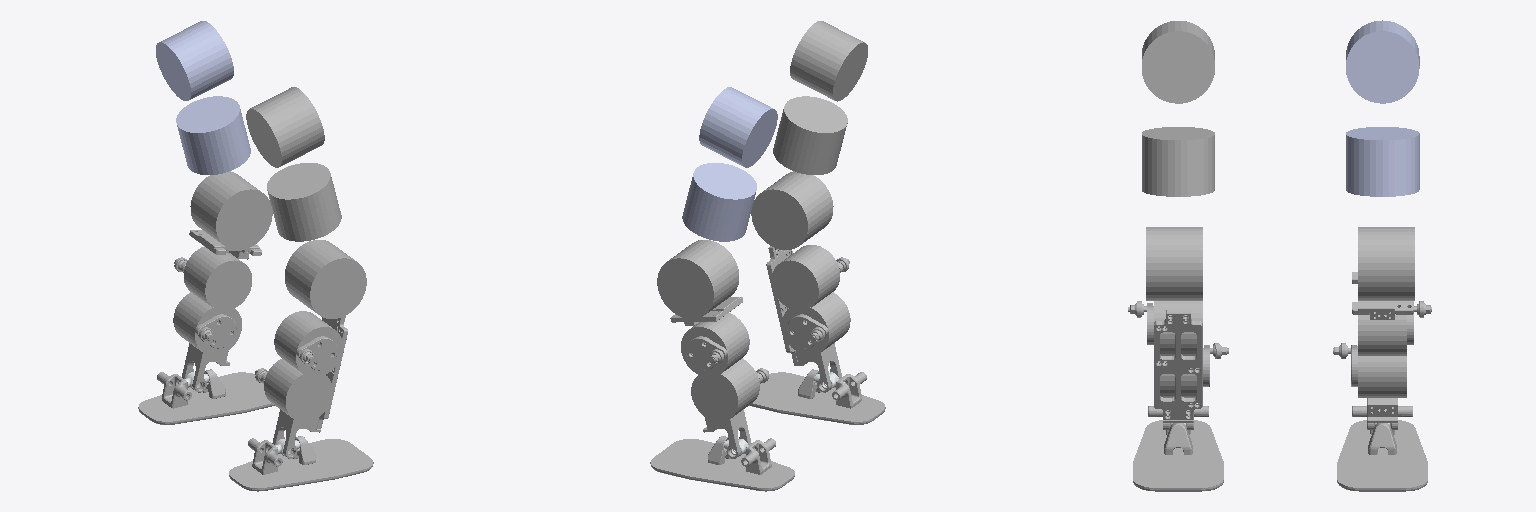
URDF robot description (hi_12dof_250108_4):
<?xml version="1.0" encoding="utf-8"?>
<!-- This URDF was automatically created by SolidWorks to URDF Exporter! Originally created by [author] ([email redacted]) 
     Commit Version: 1.6.0-4-g7f85cfe  Build Version: 1.6.7995.38578
     For more information, please see http://wiki.ros.org/sw_urdf_exporter -->
<robot name="hi_12dof_250108_4">
  <mujoco>
		<compiler meshdir="../meshes/" balanceinertia="true" discardvisual="false" />
	</mujoco>
  <link name="base_link">
    <inertial>
      <origin xyz="-0.00019303 0.00036959 0.01534814" rpy="0 0 0" />
      <mass value="6.73314994" />
      <inertia ixx="0.16409143" ixy="2.467E-05" ixz="0.00018798" iyy="0.08503186" iyz="4.154E-05" izz="0.08435556" />
    </inertial>
    <visual>
      <origin xyz="0 0 0" rpy="0 0 0" />
      <geometry>
        <mesh filename="../meshes/base_link.STL" />
      </geometry>
      <material name="">
        <color rgba="0.792156862745098 0.819607843137255 0.933333333333333 1" />
      </material>
    </visual>
    <collision>
      <origin xyz="0 0 0" rpy="0 0 0" />
      <geometry>
        <mesh filename="../meshes/base_link.STL" />
      </geometry>
    </collision>
  </link>
<!-- right leg -->  
  <link name="r_hip_pitch_link">
    <inertial>
      <origin xyz="-0.00065082 -0.04000352 0" rpy="0 0 0" />
      <mass value="0.68046017" />
      <inertia ixx="0.00047559" ixy="-7.1E-07" ixz="0" iyy="0.00045295" iyz="0" izz="0.00048659" />
    </inertial>
    <visual>
      <origin xyz="0 0 0" rpy="0 0 0" />
      <geometry>
        <mesh filename="../meshes/r_hip_pitch_link.STL" />
      </geometry>
      <material name="">
        <color rgba="0.752941176470588 0.752941176470588 0.752941176470588 1" />
      </material>
    </visual>
    <collision>
      <origin xyz="0 0 0" rpy="0 0 0" />
      <geometry>
        <box size="0.0001 0.0001 0.0001" />
        <!-- <mesh filename="../meshes/r_hip_pitch_link.STL" /> -->
      </geometry>
    </collision>
  </link>
  <joint name="r_hip_pitch_joint" type="revolute">
    <origin xyz="0 -0.0575 -0.141" rpy="0 -0.25 0" />
    <parent link="base_link" />
    <child link="r_hip_pitch_link" />
    <axis xyz="0 1 0" />
    <limit lower="-1.0" upper="1.8" effort="25" velocity="11" />
  </joint>
  <link name="r_hip_roll_link">
    <inertial>
      <origin xyz="-0.02820649 -3.55E-06 -0.07839226" rpy="0 0 0" />
      <mass value="0.80172262" />
      <inertia ixx="0.00145361" ixy="-2E-08" ixz="-3.101E-05" iyy="0.00168848" iyz="-3E-08" izz="0.00071355" />
    </inertial>
    <visual>
      <origin xyz="0 0 0" rpy="0 0 0" />
      <geometry>
        <mesh filename="../meshes/r_hip_roll_link.STL" />
      </geometry>
      <material name="">
        <color rgba="0.752941176470588 0.752941176470588 0.752941176470588 1" />
      </material>
    </visual>
    <collision>
      <origin xyz="0 0 0" rpy="0 0 0" />
      <geometry>
        <box size="0.0001 0.0001 0.0001" />
        <!-- <mesh filename="../meshes/r_hip_roll_link.STL" /> -->
      </geometry>
    </collision>
  </link>
  <joint name="r_hip_roll_joint" type="revolute">
    <origin xyz="0.0287500000000003 -0.0419959226882039 0" rpy="0. 0 0" />
    <parent link="r_hip_pitch_link" />
    <child link="r_hip_roll_link" />
    <axis xyz="1 0 0" />
    <limit lower="-0.5" upper="0.12" effort="25"    velocity="11.0" />
  </joint>
  <link name="r_thigh_link">
    <inertial>
      <origin xyz="0 0.00195775 -0.03843539" rpy="0 0 0" />
      <mass value="0.21648094" />
      <inertia ixx="0.00040135" ixy="0" ixz="0" iyy="0.0002443" iyz="1.748E-05" izz="0.00025072" />
    </inertial>
    <visual>
      <origin xyz="0 0 0" rpy="0 0 0" />
      <geometry>
        <box size="0.0001 0.0001 0.0001" />
        <!-- <mesh filename="../meshes/r_thigh_link.STL" /> -->
      </geometry>
      <material name="">
        <color rgba="0.752941176470588 0.752941176470588 0.752941176470588 1" />
      </material>
    </visual>
    <collision>
      <origin xyz="0 0 0" rpy="0 0 0" />
      <geometry>
        <box size="0.0001 0.0001 0.0001" />
        <!-- <mesh filename="../meshes/r_thigh_link.STL" /> -->
      </geometry>
    </collision>
  </link>
  <joint name="r_thigh_joint" type="revolute">
    <origin xyz="-0.02875 0 -0.127" rpy="0 0 0." />
    <parent link="r_hip_roll_link" />
    <child link="r_thigh_link" />
    <axis xyz="0 0 1" />
    <limit lower="-0.6" upper="0.3" effort="25" velocity="11" />
  </joint>
  <link name="r_calf_link">
    <inertial>
      <origin xyz="0.00112598 -0.00049951 -0.05928644" rpy="0 0 0" />
      <mass value="1.48329574" />
      <inertia ixx="0.00567644" ixy="-8E-07" ixz="9.408E-05" iyy="0.00570914" iyz="9.066E-05" izz="0.00082739" />
    </inertial>
    <visual>
      <origin xyz="0 0 0" rpy="0 0 0" />
      <geometry>
        <mesh filename="../meshes/r_calf_link.STL" />
      </geometry>
      <material name="">
        <color rgba="0.752941176470588 0.752941176470588 0.752941176470588 1" />
      </material>
    </visual>
    <collision>
      <origin xyz="0 0 0" rpy="0 0 0" />
      <geometry>
        <box size="0.0001 0.0001 0.0001" />
        <!-- <mesh filename="../meshes/r_calf_link.STL" /> -->
      </geometry>
    </collision>
  </link>
  <joint name="r_calf_joint" type="revolute">
    <origin xyz="0 0 -0.073" rpy="0 0.5 0" />
    <parent link="r_thigh_link" />
    <child link="r_calf_link" />
    <axis xyz="0 1 0" />
    <limit lower="-0.5" upper="1.7" effort="25" velocity="11" />
  </joint>
  <link name="r_ankle_pitch_link">
    <inertial>
      <origin xyz="0 0 0" rpy="0 0 0" />
      <mass value="0.0089231" />
      <inertia ixx="2.3E-07" ixy="0" ixz="0" iyy="1.02E-06" iyz="0" izz="9.9E-07" />
    </inertial>
    <visual>
      <origin xyz="0 0 0" rpy="0 0 0" />
      <geometry>
        <mesh filename="../meshes/r_ankle_pitch_link.STL" />
      </geometry>
      <material name="">
        <color rgba="0.898039215686275 0.917647058823529 0.929411764705882 1" />
      </material>
    </visual>
    <collision>
      <origin xyz="0 0 0" rpy="0 0 0" />
      <geometry>
        <box size="0.0001 0.0001 0.0001" />
        <!-- <mesh filename="../meshes/r_ankle_pitch_link.STL" /> -->
      </geometry>
    </collision>
  </link>
  <joint name="r_ankle_pitch_joint" type="revolute">
    <origin xyz="0 0 -0.2" rpy="0 -0.25 0" />
    <parent link="r_calf_link" />
    <child link="r_ankle_pitch_link" />
    <axis xyz="0 1 0" />
    <limit lower="-0.8" upper="0.95" effort="25" velocity="11" />
  </joint>
  <link name="r_ankle_roll_link">
    <inertial>
      <origin xyz="0.01853925 1.46E-06 -0.022799" rpy="0 0 0" />
      <mass value="0.34845776" />
      <inertia ixx="0.00019585" ixy="-2E-08" ixz="1.687E-05" iyy="0.00063628" iyz="0" izz="0.00080057" />
    </inertial>
    <visual>
      <origin xyz="0 0 0" rpy="0 0 0" />
      <geometry>
        <mesh filename="../meshes/r_ankle_roll_link.STL" />
      </geometry>
      <material name="">
        <color rgba="0.752941176470588 0.752941176470588 0.752941176470588 1" />
      </material>
    </visual>
    <collision>
      <origin xyz="0 0 0" rpy="0 0 0" />
      <geometry>
        <!-- <box size="0.0001 0.0001 0.0001" /> -->
        <mesh filename="../meshes/r_ankle_roll_link.STL" />
      </geometry>
    </collision>
  </link>
  <joint name="r_ankle_roll_joint" type="revolute">
    <origin xyz="0 0 0" rpy="0 0 0" />
    <parent link="r_ankle_pitch_link" />
    <child link="r_ankle_roll_link" />
    <axis xyz="1 0 0" />
    <limit lower="-0.5" upper="0.5" effort="25" velocity="11" />
  </joint>

<!-- left leg -->  
  <link name="l_hip_pitch_link">
    <inertial>
      <origin xyz="-0.00065082 0.04000698 0" rpy="0 0 0" />
      <mass value="0.68046017" />
      <inertia ixx="0.0004756" ixy="7.1E-07" ixz="0" iyy="0.00045295" iyz="0" izz="0.0004866" />
    </inertial>
    <visual>
      <origin xyz="0 0 0" rpy="0 0 0" />
      <geometry>
        <mesh filename="../meshes/l_hip_pitch_link.STL" />
      </geometry>
      <material name="">
        <color rgba="0.792156862745098 0.819607843137255 0.933333333333333 1" />
      </material>
    </visual>
    <collision>
      <origin xyz="0 0 0" rpy="0 0 0" />
      <geometry>
        <box size="0.0001 0.0001 0.0001" />
        <!-- <mesh filename="../meshes/l_hip_pitch_link.STL" /> -->
      </geometry>
    </collision>
  </link>
  <joint name="l_hip_pitch_joint" type="revolute">
    <origin xyz="0 0.0575 -0.141" rpy="0 -0.25 0" />
    <parent link="base_link" />
    <child link="l_hip_pitch_link" />
    <axis xyz="0 1 0" />
    <limit lower="-1" upper="1.8" effort="25" velocity="11" />
  </joint>
  <link name="l_hip_roll_link">
    <inertial>
      <origin xyz="-0.02820649 0 -0.07839226" rpy="0 0 0" />
      <mass value="0.80172262" />
      <inertia ixx="0.00145361" ixy="0" ixz="-3.1E-05" iyy="0.00168848" iyz="0" izz="0.00071355" />
    </inertial>
    <visual>
      <origin xyz="0 0 0" rpy="0 0 0" />
      <geometry>
        <mesh filename="../meshes/l_hip_roll_link.STL" />
      </geometry>
      <material name="">
        <color rgba="0.792156862745098 0.819607843137255 0.933333333333333 1" />
      </material>
    </visual>
    <collision>
      <origin xyz="0 0 0" rpy="0 0 0" />
      <geometry>
        <box size="0.0001 0.0001 0.0001" />
        <!-- <mesh filename="../meshes/l_hip_roll_link.STL" /> -->
      </geometry>
    </collision>
  </link>
  <joint name="l_hip_roll_joint" type="revolute">
    <origin xyz="0.02875 0.042 0" rpy="-0.0 0 0" />
    <parent link="l_hip_pitch_link" />
    <child link="l_hip_roll_link" />
    <axis xyz="1 0 0" />
    <limit lower="-0.12" upper="0.5" effort="25"    velocity="11.0" />
  </joint>
  <link name="l_thigh_link">
    <inertial>
      <origin xyz="0 -0.00195775 -0.03843539" rpy="0 0 0" />
      <mass value="0.21648094" />
      <inertia ixx="0.00040135" ixy="0" ixz="0" iyy="0.0002443" iyz="-1.748E-05" izz="0.00025072" />
    </inertial>
    <visual>
      <origin xyz="0 0 0" rpy="0 0 0" />
      <geometry>
        <box size="0.0001 0.0001 0.0001" />
        <!-- <mesh filename="../meshes/l_thigh_link.STL" /> -->
      </geometry>
      <material name="">
        <color rgba="0.752941176470588 0.752941176470588 0.752941176470588 1" />
      </material>
    </visual>
    <collision>
      <origin xyz="0 0 0" rpy="0 0 0" />
      <geometry>
        <box size="0.0001 0.0001 0.0001" />
        <!-- <mesh filename="../meshes/l_thigh_link.STL" /> -->
      </geometry>
    </collision>
  </link>
  <joint name="l_thigh_joint" type="revolute">
    <origin xyz="-0.02875 0 -0.127" rpy="0 0 0" />
    <parent link="l_hip_roll_link" />
    <child link="l_thigh_link" />
    <axis xyz="0 0 1" />
    <limit lower="-0.3" upper="0.6" effort="25"    velocity="11.0" />
  </joint>
  <link name="l_calf_link">
    <inertial>
      <origin xyz="0.00111832 0.00049709 -0.0596686" rpy="0 0 0" />
      <mass value="1.48757619" />
      <inertia ixx="0.00575491" ixy="8.3E-07" ixz="9.319E-05" iyy="0.00578785" iyz="-9.095E-05" izz="0.00082773" />
    </inertial>
    <visual>
      <origin xyz="0 0 0" rpy="0 0 0" />
      <geometry>
        <mesh filename="../meshes/l_calf_link.STL" />
      </geometry>
      <material name="">
        <color rgba="0.752941176470588 0.752941176470588 0.752941176470588 1" />
      </material>
    </visual>
    <collision>
      <origin xyz="0 0 0" rpy="0 0 0" />
      <geometry>
        <box size="0.0001 0.0001 0.0001" />
        <!-- <mesh filename="../meshes/l_calf_link.STL" /> -->
      </geometry>
    </collision>
  </link>
  <joint name="l_calf_joint" type="revolute">
    <origin xyz="0 0 -0.073" rpy="0 0.5 0" />
    <parent link="l_thigh_link" />
    <child link="l_calf_link" />
    <axis xyz="0 1 0" />
    <limit lower="-0.5" upper="1.7" effort="25" velocity="11" />
  </joint>
  <link name="l_ankle_pitch_link">
    <inertial>
      <origin xyz="0 0 0" rpy="0 0 0" />
      <mass value="0.0089231" />
      <inertia ixx="2.3E-07" ixy="0" ixz="0" iyy="1.02E-06" iyz="0" izz="9.9E-07" />
    </inertial>
    <visual>
      <origin xyz="0 0 0" rpy="0 0 0" />
      <geometry>
        <mesh filename="../meshes/l_ankle_pitch_link.STL" />
      </geometry>
      <material name="">
        <color rgba="0.898039215686275 0.917647058823529 0.929411764705882 1" />
      </material>
    </visual>
    <collision>
      <origin xyz="0 0 0" rpy="0 0 0" />
      <geometry>
        <box size="0.0001 0.0001 0.0001" />
        <!-- <mesh filename="../meshes/l_ankle_pitch_link.STL" /> -->
      </geometry>
    </collision>
  </link>
  <joint name="l_ankle_pitch_joint" type="revolute">
    <origin xyz="0 0 -0.199999997760877" rpy="0 -0.25 0" />
    <parent link="l_calf_link" />
    <child link="l_ankle_pitch_link" />
    <axis xyz="0 1 0" />
    <limit lower="-0.8" upper="0.95" effort="25" velocity="11" />
  </joint>
  <link name="l_ankle_roll_link">
    <inertial>
      <origin xyz="0.01853925 1.46E-06 -0.022799" rpy="0 0 0" />
      <mass value="0.34845776" />
      <inertia ixx="0.00019585" ixy="-2E-08" ixz="1.687E-05" iyy="0.00063628" iyz="0" izz="0.00080057" />
    </inertial>
    <visual>
      <origin xyz="0 0 0" rpy="0 0 0" />
      <geometry>
        <mesh filename="../meshes/l_ankle_roll_link.STL" />
      </geometry>
      <material name="">
        <color rgba="0.752941176470588 0.752941176470588 0.752941176470588 1" />
      </material>
    </visual>
    <collision>
      <origin xyz="0 0 0" rpy="0 0 0" />
      <geometry>
        <mesh filename="../meshes/l_ankle_roll_link.STL" />
      </geometry>
    </collision>
  </link>
  <joint name="l_ankle_roll_joint" type="revolute">
    <origin xyz="0 0 0" rpy="0.0 0 0" />
    <parent link="l_ankle_pitch_link" />
    <child link="l_ankle_roll_link" />
    <axis xyz="1 0 0" />
    <limit lower="-0.5" upper="0.5" effort="25" velocity="11" />
  </joint>
</robot>

--- Facts derived from the render (not from the file) ---
Views: 3 orthographic renders of the robot side by side, from view 1: azimuth 30°, elevation 25°; view 2: azimuth 150°, elevation 25°; view 3: azimuth 270°, elevation 25°.
Robot: hi_12dof_250108_4 — 13 links, 12 joints (12 revolute); root link base_link; default pose: every joint at zero.
Links seen in each view (by area): view 1: r_calf_link, l_calf_link, r_ankle_roll_link, l_ankle_roll_link, r_hip_roll_link, l_hip_roll_link, r_hip_pitch_link, l_hip_pitch_link; view 2: r_calf_link, l_calf_link, l_ankle_roll_link, r_ankle_roll_link, r_hip_roll_link, l_hip_roll_link, r_hip_pitch_link, l_hip_pitch_link; view 3: r_calf_link, l_calf_link, l_ankle_roll_link, r_ankle_roll_link, l_hip_pitch_link, l_hip_roll_link, r_hip_pitch_link, r_hip_roll_link.
Link boxes in pixels (<box>): r_calf_link: <box>255,240,366,458</box>; l_calf_link: <box>173,171,272,392</box>; r_ankle_roll_link: <box>229,436,373,491</box>; l_ankle_roll_link: <box>138,369,274,424</box>; r_hip_roll_link: <box>267,163,341,241</box>; l_hip_roll_link: <box>176,96,250,174</box>; r_hip_pitch_link: <box>246,87,324,167</box>; l_hip_pitch_link: <box>156,21,233,100</box>; r_calf_link: <box>751,171,850,392</box>; l_calf_link: <box>657,240,768,458</box>; l_ankle_roll_link: <box>650,436,794,491</box>; r_ankle_roll_link: <box>749,369,885,424</box>; r_hip_roll_link: <box>773,96,847,174</box>; l_hip_roll_link: <box>682,163,756,241</box>; r_hip_pitch_link: <box>790,21,867,101</box>; l_hip_pitch_link: <box>699,87,777,167</box>; r_calf_link: <box>1128,227,1228,429</box>; l_calf_link: <box>1333,227,1431,429</box>; l_ankle_roll_link: <box>1337,406,1427,491</box>; r_ankle_roll_link: <box>1133,406,1223,491</box>; l_hip_pitch_link: <box>1346,20,1419,103</box>; l_hip_roll_link: <box>1346,127,1419,196</box>; r_hip_pitch_link: <box>1142,21,1214,103</box>; r_hip_roll_link: <box>1142,127,1214,196</box>.
Size in the robot's own frame: 0.1575 by 0.2971 by 0.4601 metres.
10 mesh visuals loaded from 11 distinct referenced files (10 binary STL); not drawn: 1 (reference not matched to a file when rendering).